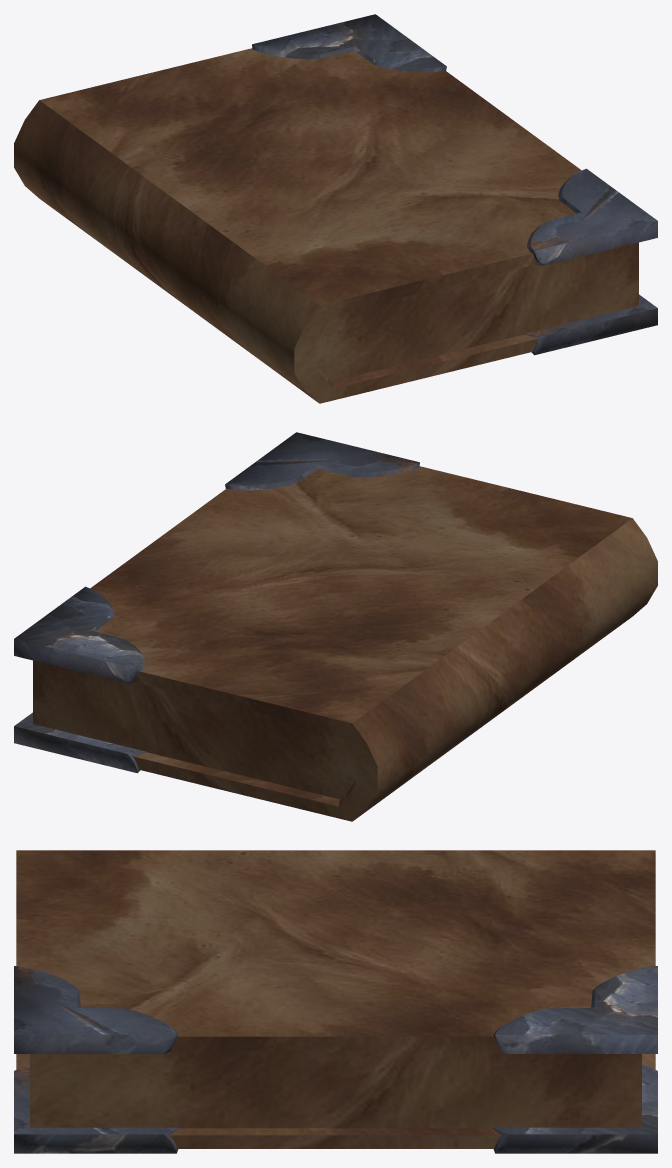
File: tr_book_clasped.glb
The picture shows the model from 3 angles, top to bottom: view 1: azimuth 30°, elevation 25°; view 2: azimuth 150°, elevation 25°; view 3: azimuth 270°, elevation 25°; orthographic projection. The views are drawn at different scales.
Parts seen in each view (by area): view 1: model; view 2: model; view 3: model.
Part boxes in pixels (x1=…): model: x1=14, y1=14, x2=657, y2=403; model: x1=14, y1=432, x2=657, y2=821; model: x1=14, y1=850, x2=657, y2=1153.
Bounding box in the file's own units: 0.247 × 0.0679 × 0.3333.
Materials: 2 (2 with a texture image).
